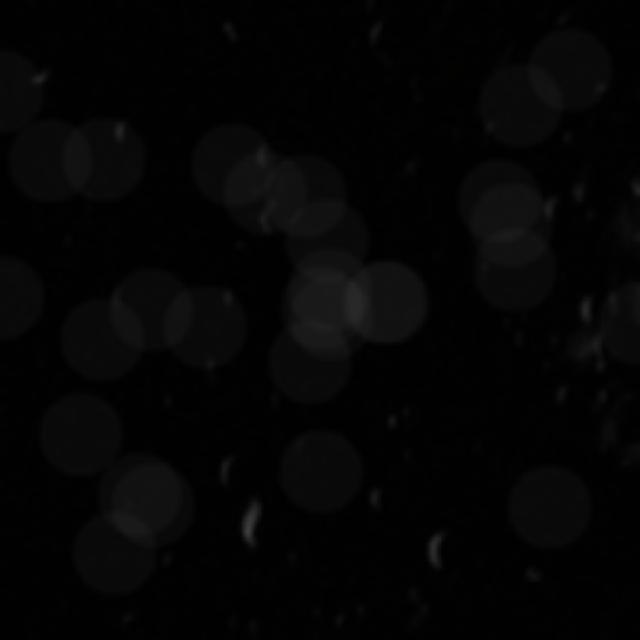crater: (362, 119, 490, 252), (402, 505, 500, 600), (348, 0, 443, 89), (222, 482, 313, 570), (266, 537, 354, 625), (13, 174, 101, 260), (196, 429, 282, 516), (92, 259, 168, 336), (465, 97, 541, 174), (234, 120, 309, 194), (250, 356, 324, 429), (537, 369, 608, 438), (144, 368, 213, 438), (528, 170, 598, 239), (564, 273, 630, 339), (354, 468, 418, 529), (281, 416, 342, 478), (96, 103, 156, 165), (348, 226, 408, 288), (372, 388, 428, 444), (214, 5, 269, 62), (173, 83, 227, 137), (550, 113, 604, 165), (324, 603, 368, 640)
